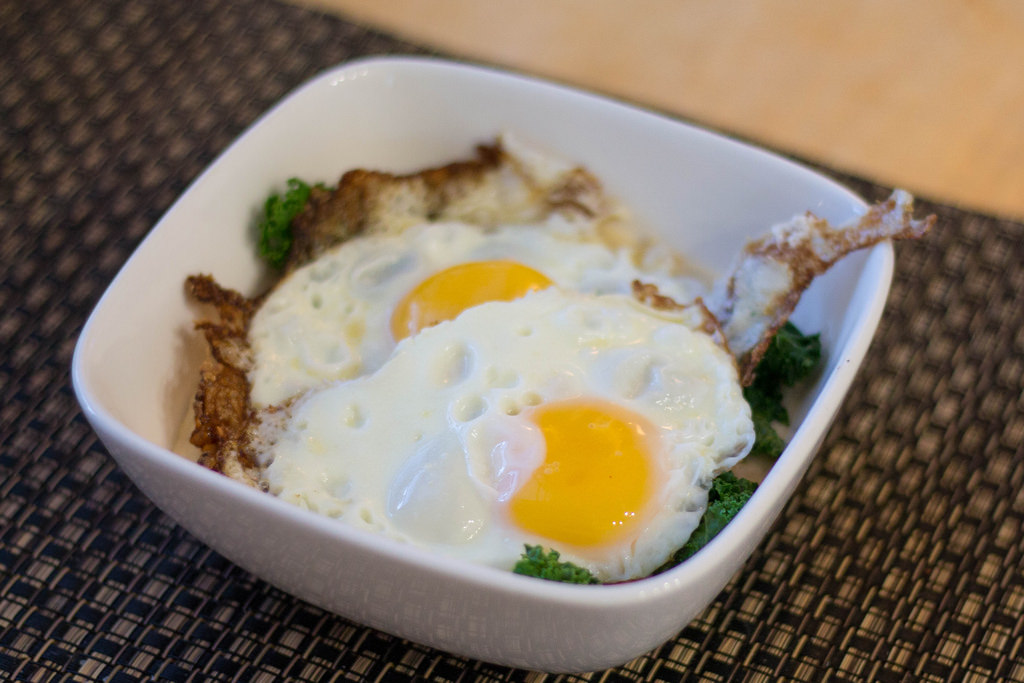fried egg: (299, 233, 701, 543)
